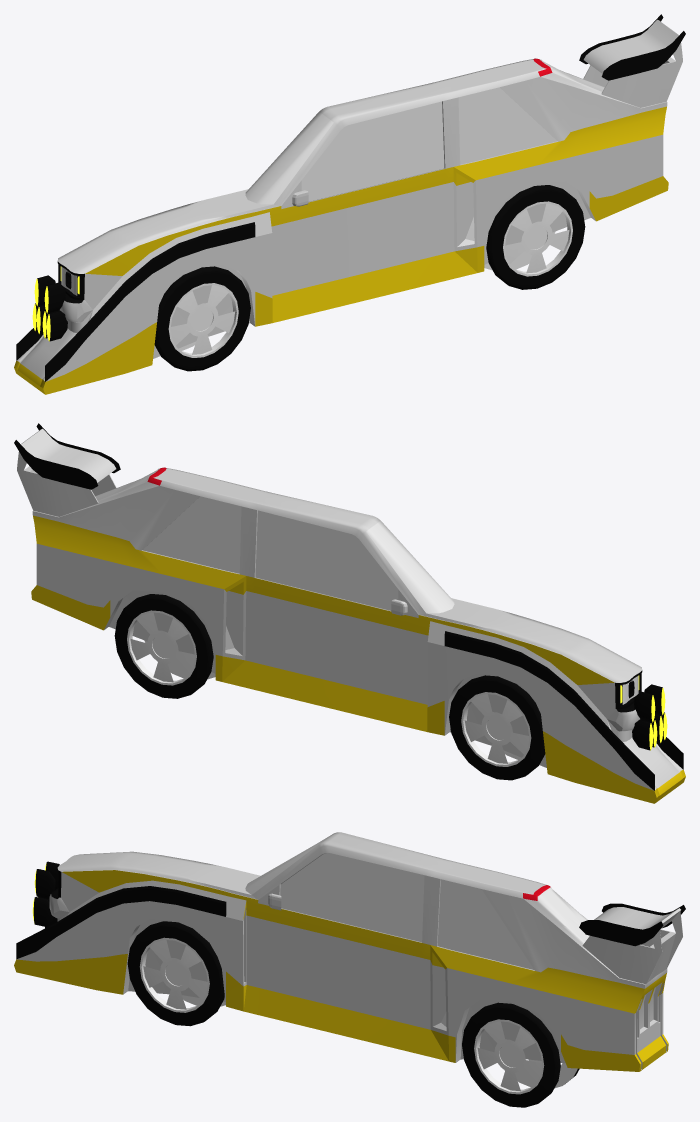
The model's file is Voiture-2-2D.fbx.
The picture shows the model from 3 angles, top to bottom: view 1: azimuth 30°, elevation 25°; view 2: azimuth 150°, elevation 25°; view 3: azimuth 330°, elevation 25°; orthographic projection.
Visible parts, largest first — view 1: 2Dvoiture_model Pikes peak; view 2: 2Dvoiture_model Pikes peak; view 3: 2Dvoiture_model Pikes peak.
Boxes of the visible parts, box(x1,y1,x2,y2) form: 2Dvoiture_model Pikes peak: box(14, 14, 685, 394); 2Dvoiture_model Pikes peak: box(14, 423, 685, 803); 2Dvoiture_model Pikes peak: box(14, 832, 685, 1107).
Size of the model in its own units: 328 by 107 by 25.66.
